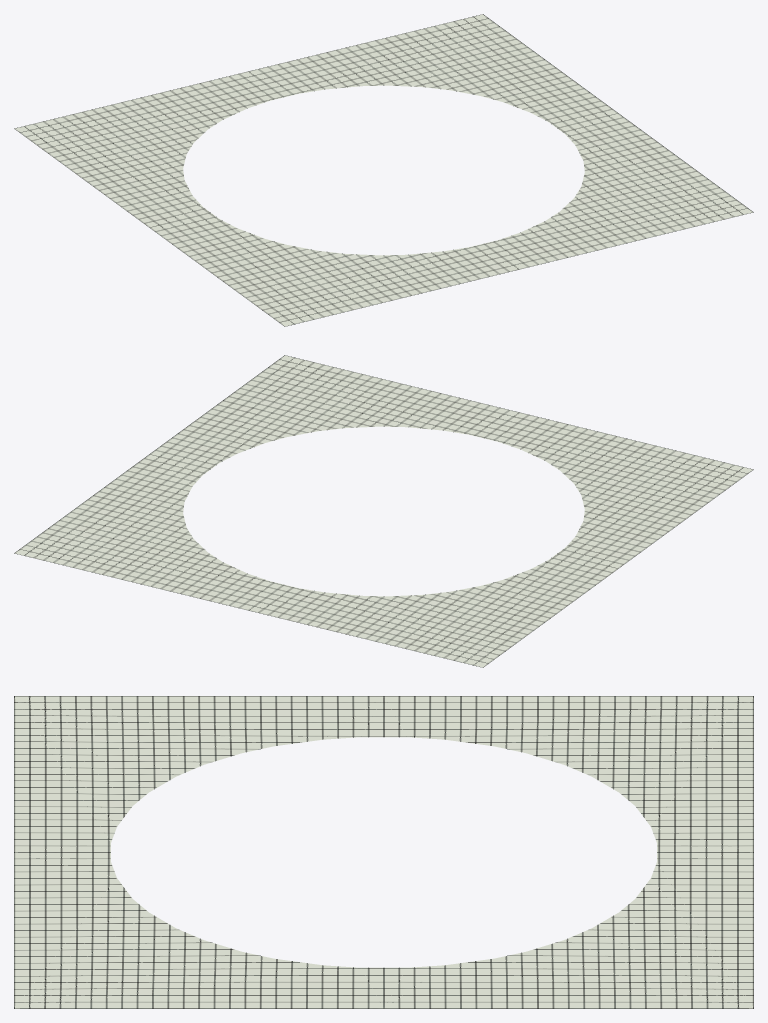
File: StaircaseWell_edge.fbx
3 views of the same model, one above another, from view 1: azimuth 30°, elevation 25°; view 2: azimuth 150°, elevation 25°; view 3: azimuth 270°, elevation 25° (orthographic). The views are drawn at different scales.
Parts seen in each view (by area): view 1: StaircaseWell_edge; view 2: StaircaseWell_edge; view 3: StaircaseWell_edge.
Part boxes in pixels (bbox=[...]): StaircaseWell_edge: bbox=[14, 14, 753, 326]; StaircaseWell_edge: bbox=[14, 355, 753, 667]; StaircaseWell_edge: bbox=[14, 696, 753, 1008].
Bounding box in the file's own units: 800 × 5.92e-06 × 800.
